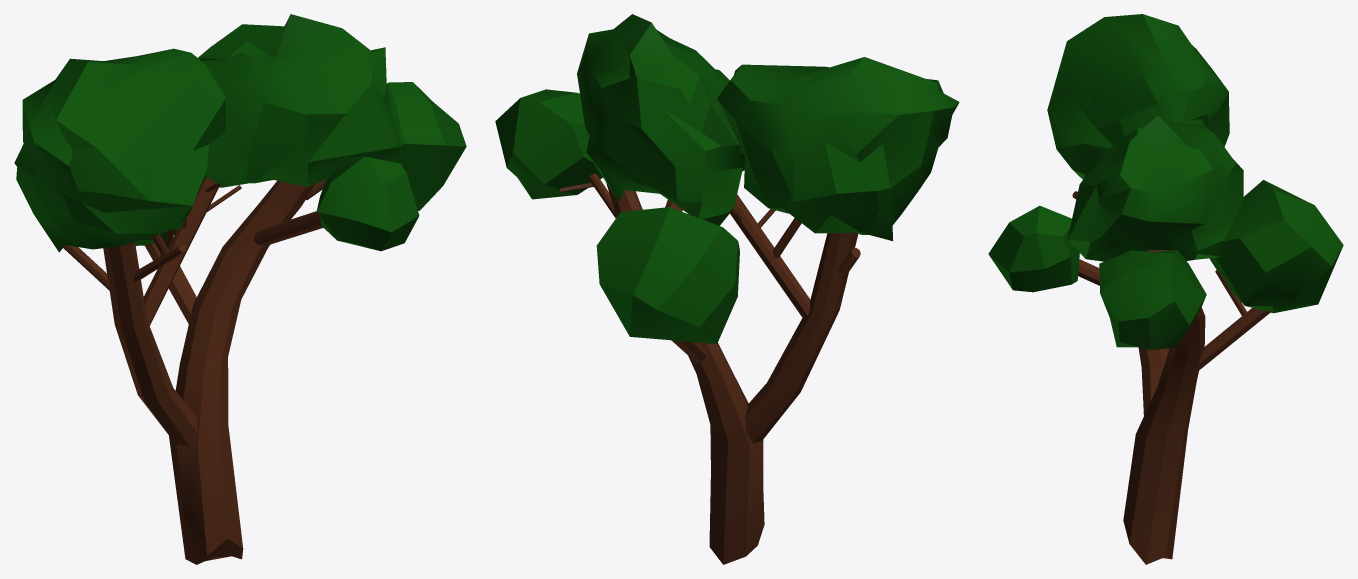
File: BrokenTreeTop.fbx
3 renders of one model, left to right at view 1: azimuth 30°, elevation 25°; view 2: azimuth 150°, elevation 25°; view 3: azimuth 270°, elevation 25°, orthographic. The views are drawn at different scales.
Parts seen in each view (by area): view 1: TreeBrokenTop; view 2: TreeBrokenTop; view 3: TreeBrokenTop.
Part boxes in pixels (bbox=[...]): TreeBrokenTop: bbox=[14, 14, 466, 564]; TreeBrokenTop: bbox=[495, 14, 959, 564]; TreeBrokenTop: bbox=[988, 14, 1343, 564].
Size of the model in its own units: 839 by 975 by 643.
